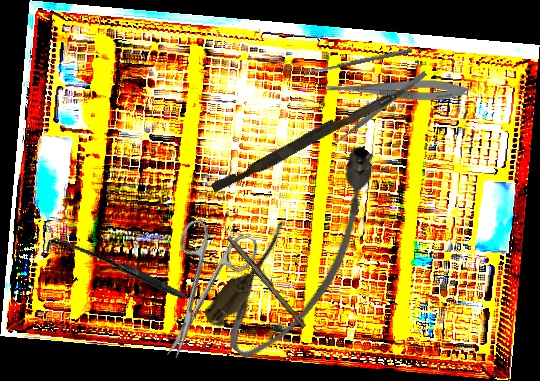Cannula: (197, 134, 411, 372)
Hook Surgical: (42, 197, 187, 344)
Iris Scissors: (134, 211, 262, 372)
Micro Scissor: (320, 80, 468, 101)
Pusher: (210, 73, 418, 199), (330, 69, 428, 149)
Scalpel Handle: (224, 234, 310, 329)
Surgical Spoon: (303, 47, 413, 76)
